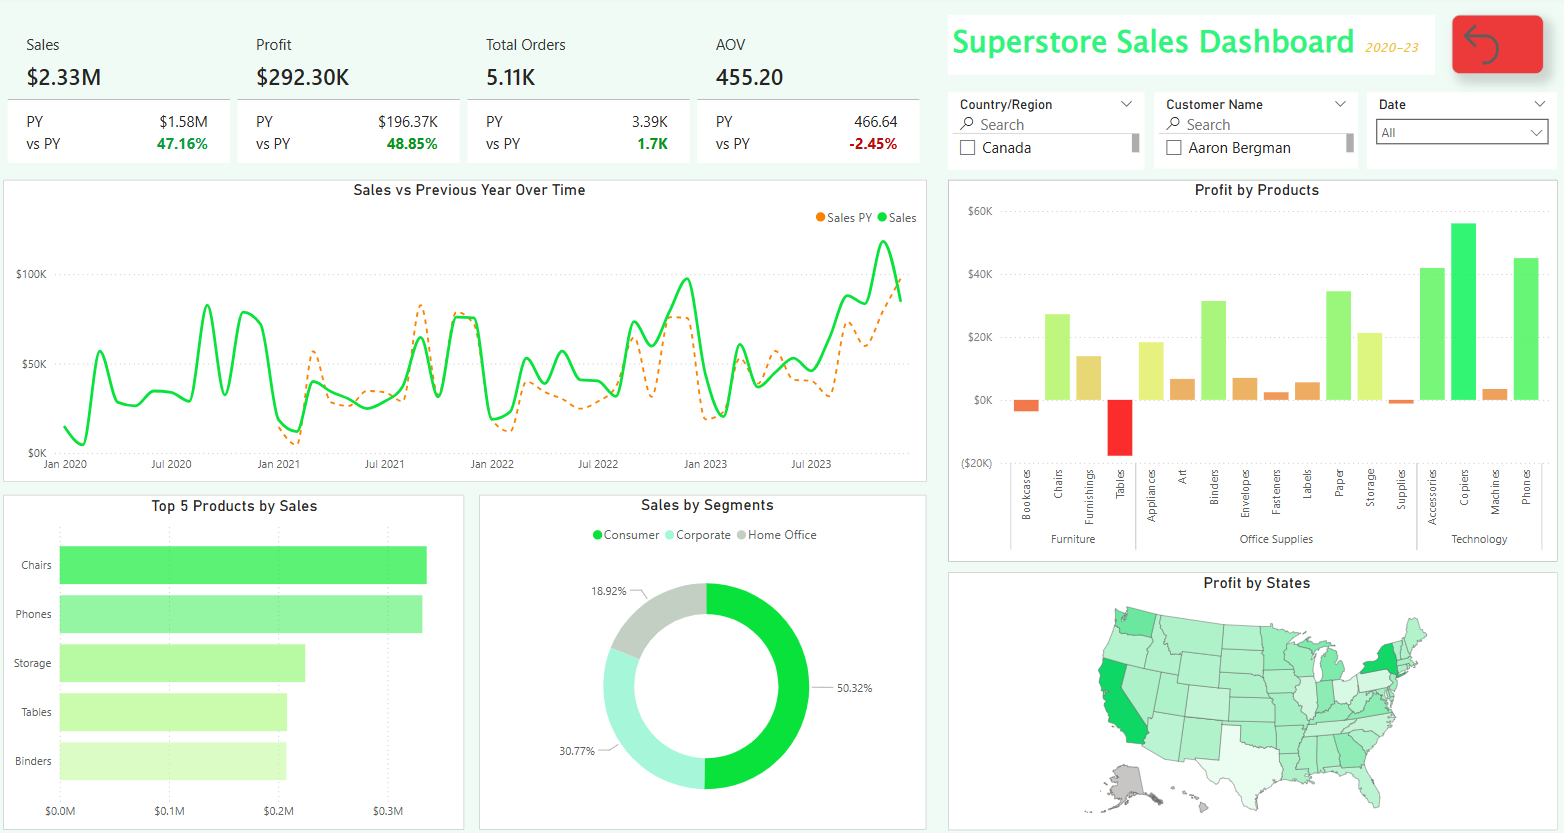

The dashboard page shown, as its layout file describes it:
{"tool":"powerbi","page":{"name":"Page 1","canvas":[1700,910],"ordinal":0},"visuals":[{"type":"cardVisual","fields":{"Data":["Key Measures.Sales","Key Measures.Profit","Orders.Total Orders","Orders.AOV"]},"box":[10.8,20.2,996.6,165.9],"z":0},{"type":"lineChart","title":"Sales vs Previous Year Over Time","fields":{"Y":["Key Measures.Sales PY","Key Measures.Sales"],"Category":["Date Table.Start of month"]},"box":[10.9,197.7,996.7,325.9],"z":1},{"type":"clusteredColumnChart","title":"Profit by Products","fields":{"Category":["Orders.Category","Orders.Sub-Category"],"Y":["Key Measures.Profit"]},"box":[1030.8,197.7,657.2,411.8],"z":2},{"type":"shapeMap","title":"Profit by States","fields":{"Value":["Key Measures.Profit"],"Category":["Orders.State/Province"]},"box":[1030.8,621.8,657.2,278.2],"z":3},{"type":"donutChart","title":"Sales by Segments","fields":{"Category":["Orders.Segment"],"Y":["Key Measures.Sales"]},"box":[524.9,538.6,482.7,361.3],"z":4},{"type":"barChart","title":"Top 5 Products by Sales","fields":{"Category":["Orders.Sub-Category"],"Y":["Key Measures.Sales"]},"box":[10.9,538.6,497.7,361.3],"z":5},{"type":"textbox","box":[1030.3,20.2,525.9,64.7],"z":6},{"type":"slicer","fields":{"Values":["Orders.Country/Region"]},"box":[1030.3,103.8,211.7,83.6],"z":8},{"type":"slicer","fields":{"Values":["Orders.Customer Name"]},"box":[1252.8,103.8,219.8,82.3],"z":9},{"type":"slicer","fields":{"Values":["Date Table.Date"]},"box":[1481.8,103.7,205.8,82.9],"z":10},{"type":"actionButton","box":[1574,20.7,98.9,63.8],"z":11}]}

Visuals, with their boxes in screenshot pixels (x1, y1, x2, y2), scaled from the page's 1700x910 canvas onto the 1564x833 screenshot:
cardVisual - Key Measures.Sales x Key Measures.Profit: x1=10 y1=18 x2=927 y2=170
"Sales vs Previous Year Over Time" lineChart: x1=10 y1=181 x2=927 y2=479
"Profit by Products" clusteredColumnChart: x1=948 y1=181 x2=1553 y2=558
"Profit by States" shapeMap: x1=948 y1=569 x2=1553 y2=824
"Sales by Segments" donutChart: x1=483 y1=493 x2=927 y2=824
"Top 5 Products by Sales" barChart: x1=10 y1=493 x2=468 y2=824
textbox: x1=948 y1=18 x2=1432 y2=78
slicer - Orders.Country/Region: x1=948 y1=95 x2=1143 y2=172
slicer - Orders.Customer Name: x1=1153 y1=95 x2=1355 y2=170
slicer - Date Table.Date: x1=1363 y1=95 x2=1553 y2=171
actionButton: x1=1448 y1=19 x2=1539 y2=77
